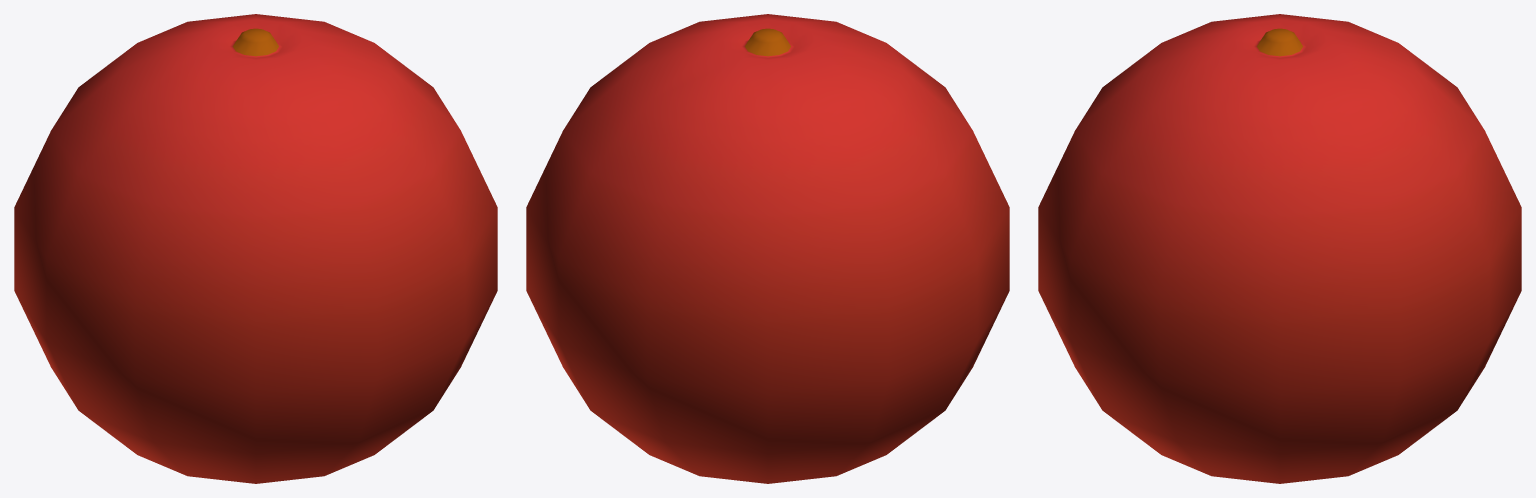
File: Orange.fbx
The picture shows the model from 3 angles, left to right: view 1: azimuth 30°, elevation 25°; view 2: azimuth 150°, elevation 25°; view 3: azimuth 270°, elevation 25°; orthographic projection.
Visible parts, largest first — view 1: Orange; view 2: Orange; view 3: Orange.
Boxes of the visible parts, <box> form: Orange: <box>14,14,497,483</box>; Orange: <box>526,14,1009,483</box>; Orange: <box>1038,14,1521,483</box>.
Bounding box in the file's own units: 169 × 164 × 169.
